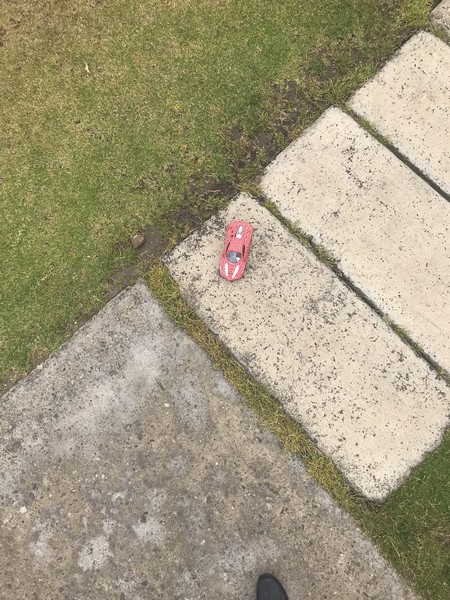RC: (217, 220, 254, 282)
